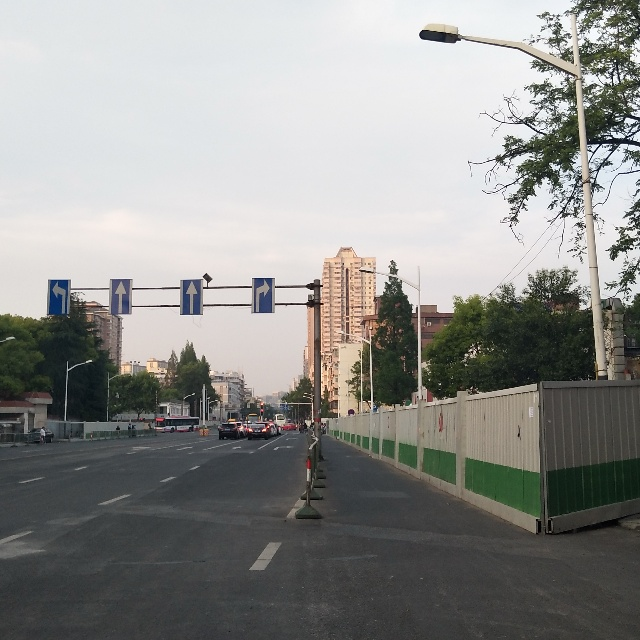left: (47, 279, 71, 315)
right: (252, 278, 275, 314)
straight: (109, 279, 133, 315), (180, 279, 203, 315)
